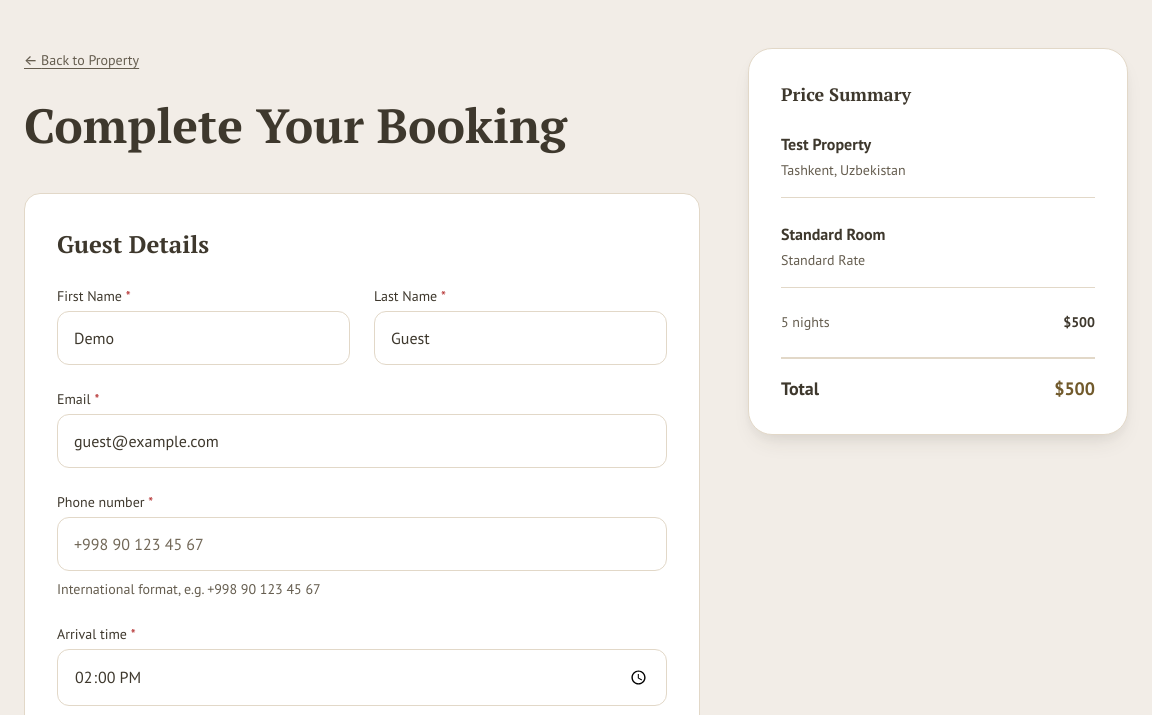
Test case: BookingPage › guest phone (plan PLAN_CASH_ONLY stage 1) › keeps only digits and a leading plus while typing
Step 1. Type "+998 90 1x2" into the field labelled "Phone number *" → point(362, 544), box [57, 517, 667, 571]
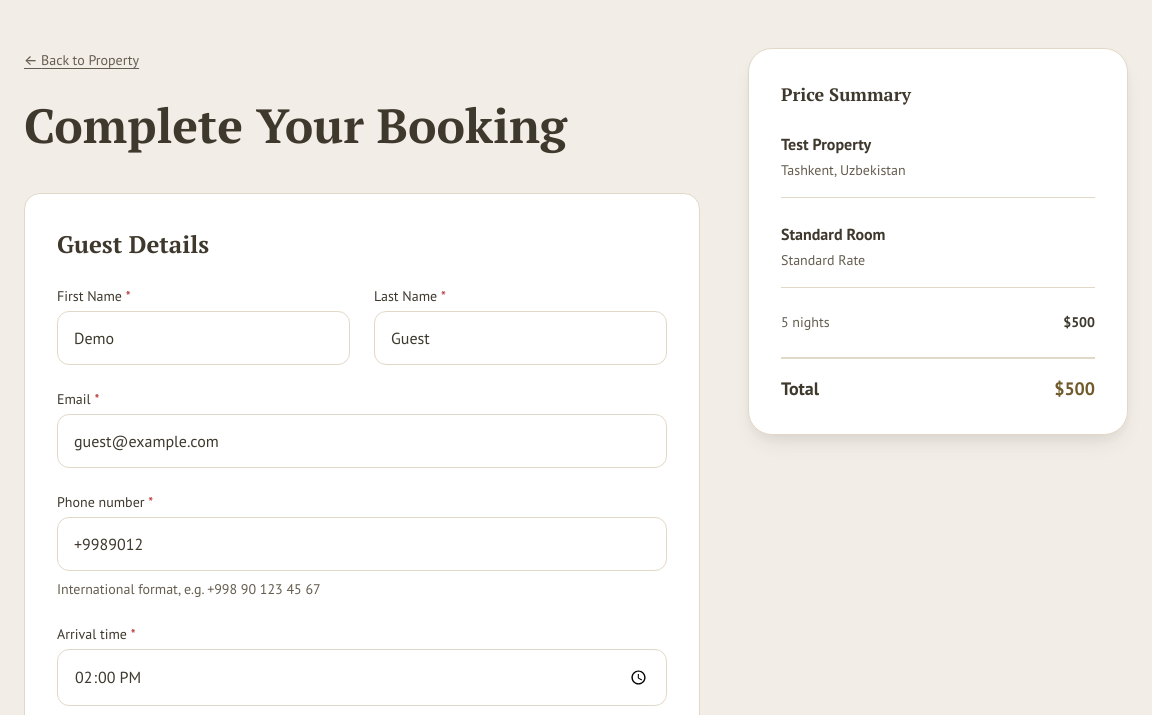
Check: the field labelled "Phone number *" holds "+9989012", box [57, 517, 667, 571]
